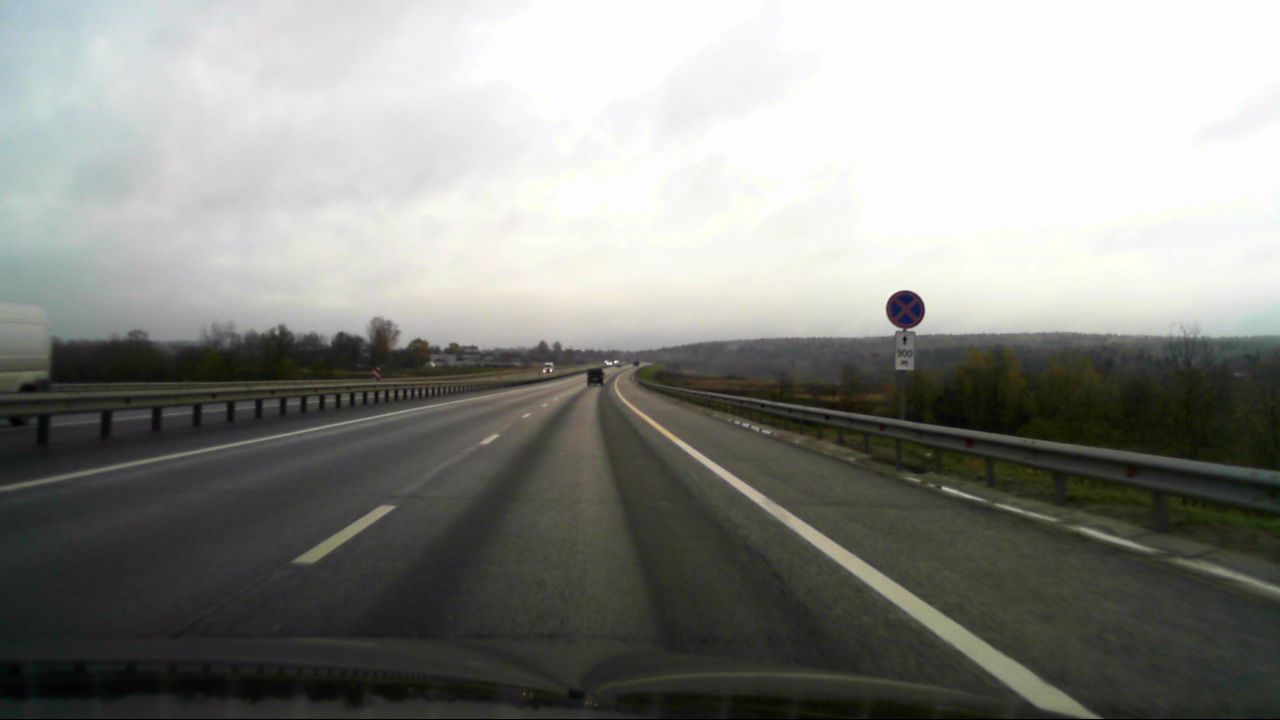No Parking: (885, 290, 926, 328)
